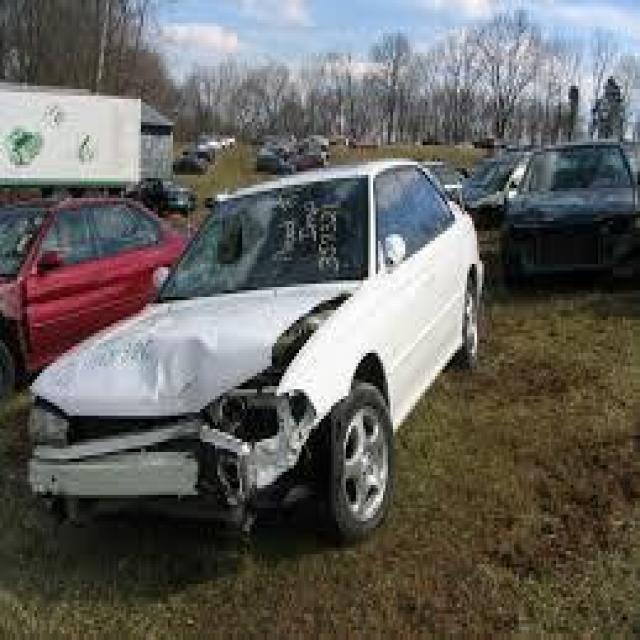damaged: (30, 297, 342, 505)
